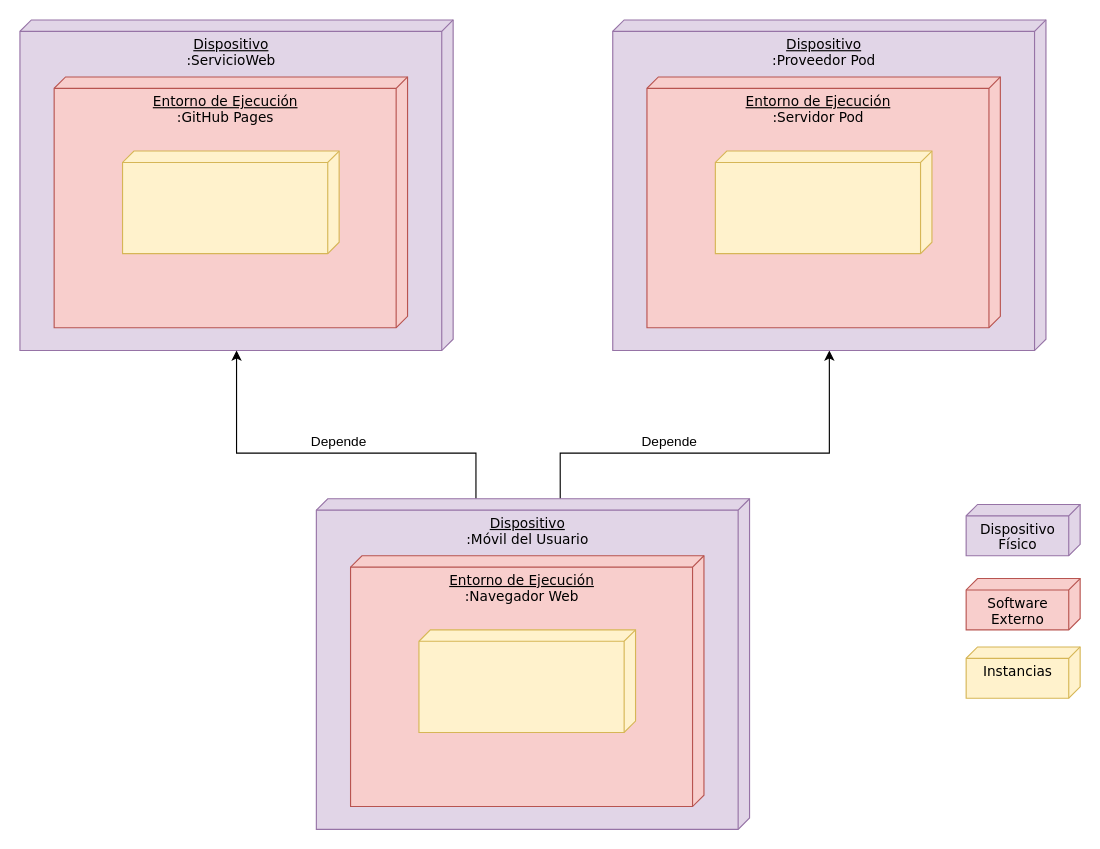
The diagram is 1100 pixels wide and 849 high, and some of its shapes have lost their labels. The centre of each missing label's shape, as x and y in pixels:
":Instancia Pod" belongs at (x=823, y=202).
":Página Web" belongs at (x=527, y=680).
":Radarin" belongs at (x=230, y=202).
